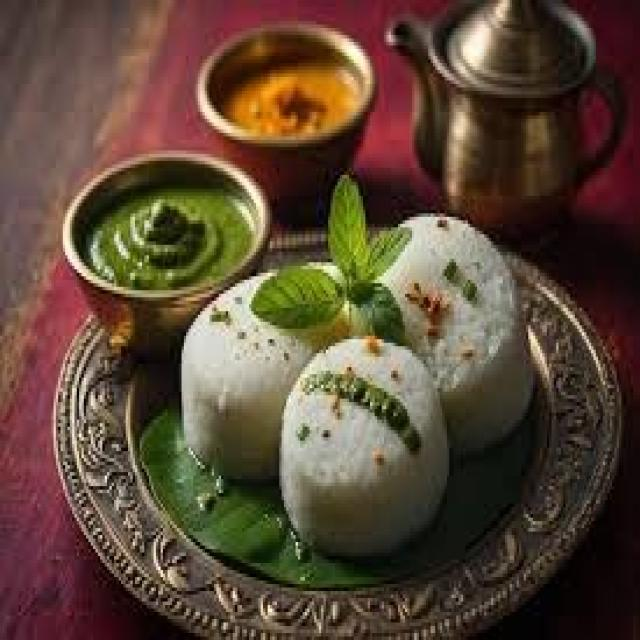puthina chutney: (71, 155, 262, 293)
